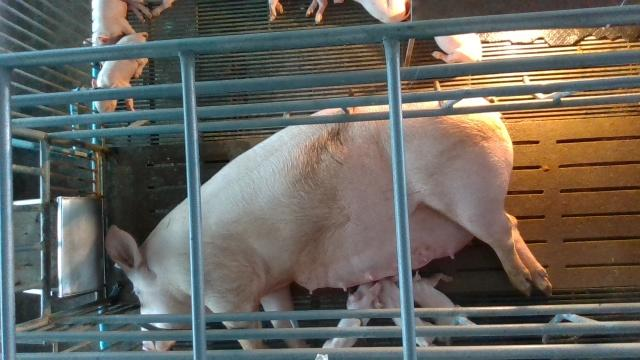piglet: (91, 31, 149, 113), (380, 276, 438, 346), (322, 281, 381, 347), (413, 271, 477, 326), (92, 0, 151, 45), (432, 33, 482, 63)
sow-sleep-lactate: (104, 97, 553, 348)
